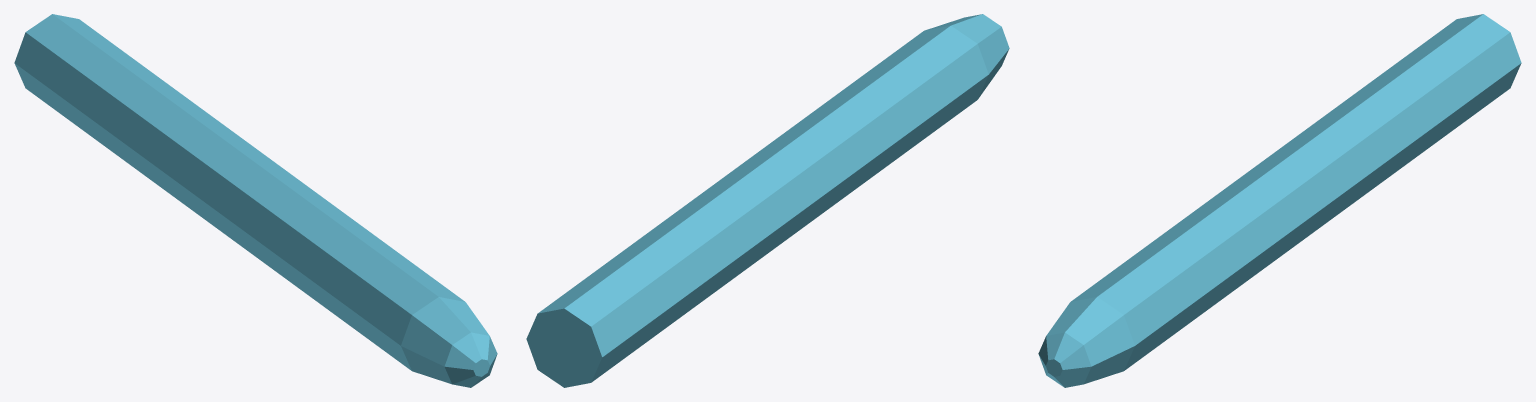
File: blade-dagger.glb
3 views of the same model, side by side, from view 1: azimuth 30°, elevation 25°; view 2: azimuth 150°, elevation 25°; view 3: azimuth 330°, elevation 25° (orthographic).
Visible parts, largest first — view 1: m; view 2: m; view 3: m.
Boxes of the visible parts, x1=… form: m: x1=14, y1=14, x2=497, y2=387; m: x1=526, y1=14, x2=1009, y2=387; m: x1=1038, y1=14, x2=1521, y2=387.
Size of the model in its own units: 0.009 by 0.009 by 0.0882.
